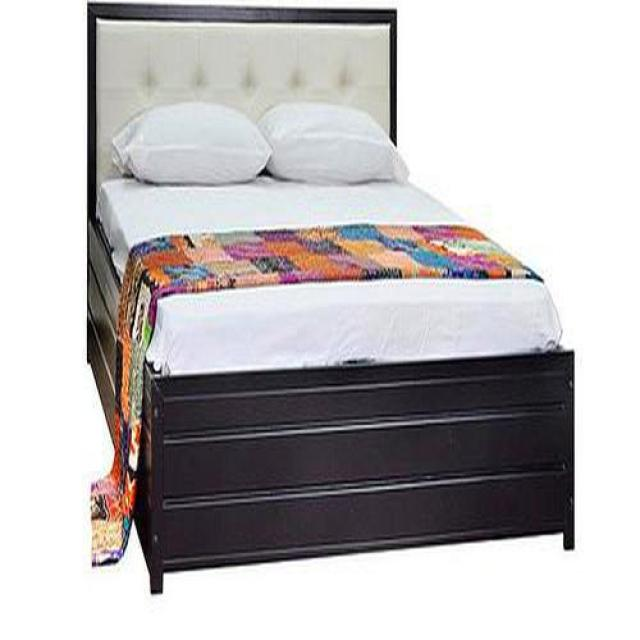bed: (88, 1, 576, 594)
